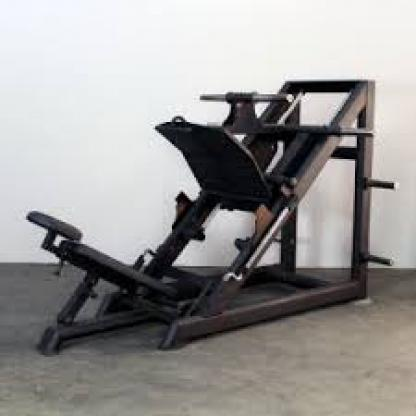leg press: (22, 59, 402, 360)
